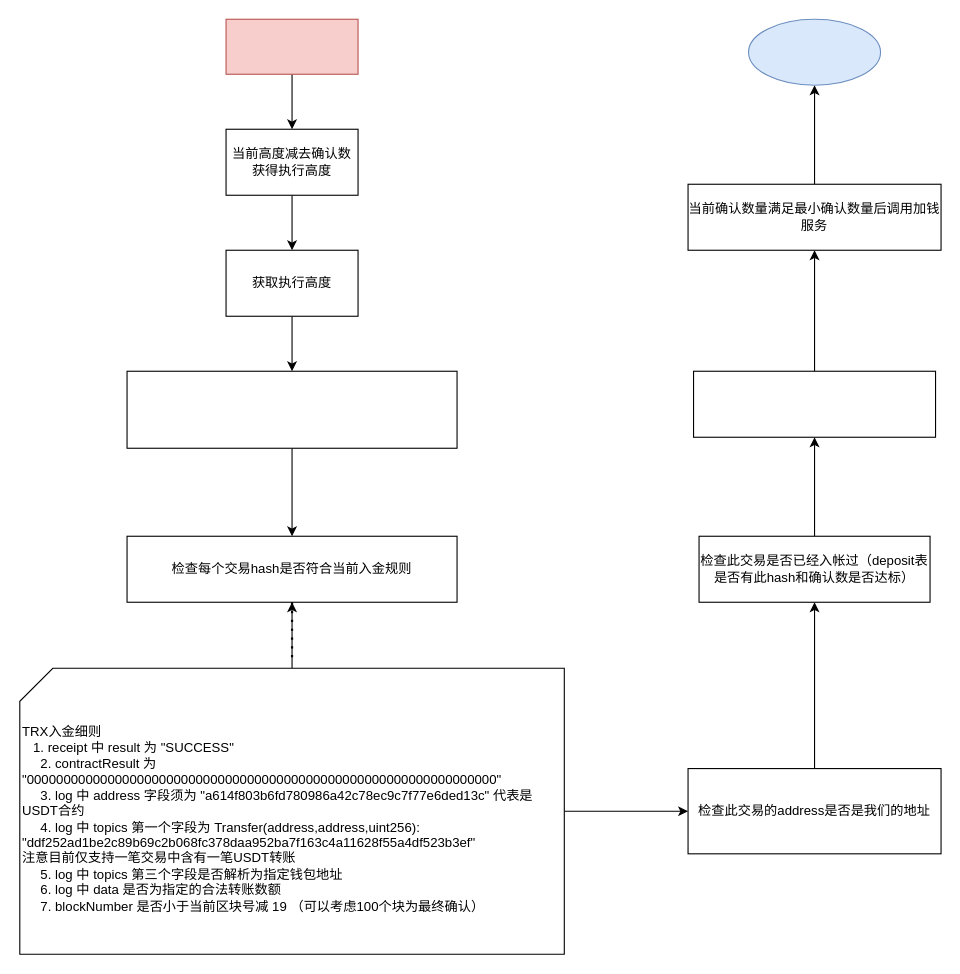
Some shapes in this 960 by 974 pixel diagram are drawn without their labels. Each missing label, with the box of its shape:
从执行高度到当前高度，循环检查每个块的交易信息: (126, 370, 457, 448)
完成入账: (747, 18, 881, 85)
获取当前区块高度: (225, 18, 358, 74)
记录或更新存款信息（每次扫链确认数量会不断更新，某个块会被扫x次，X=最小入账确认数量）: (692, 370, 936, 437)
